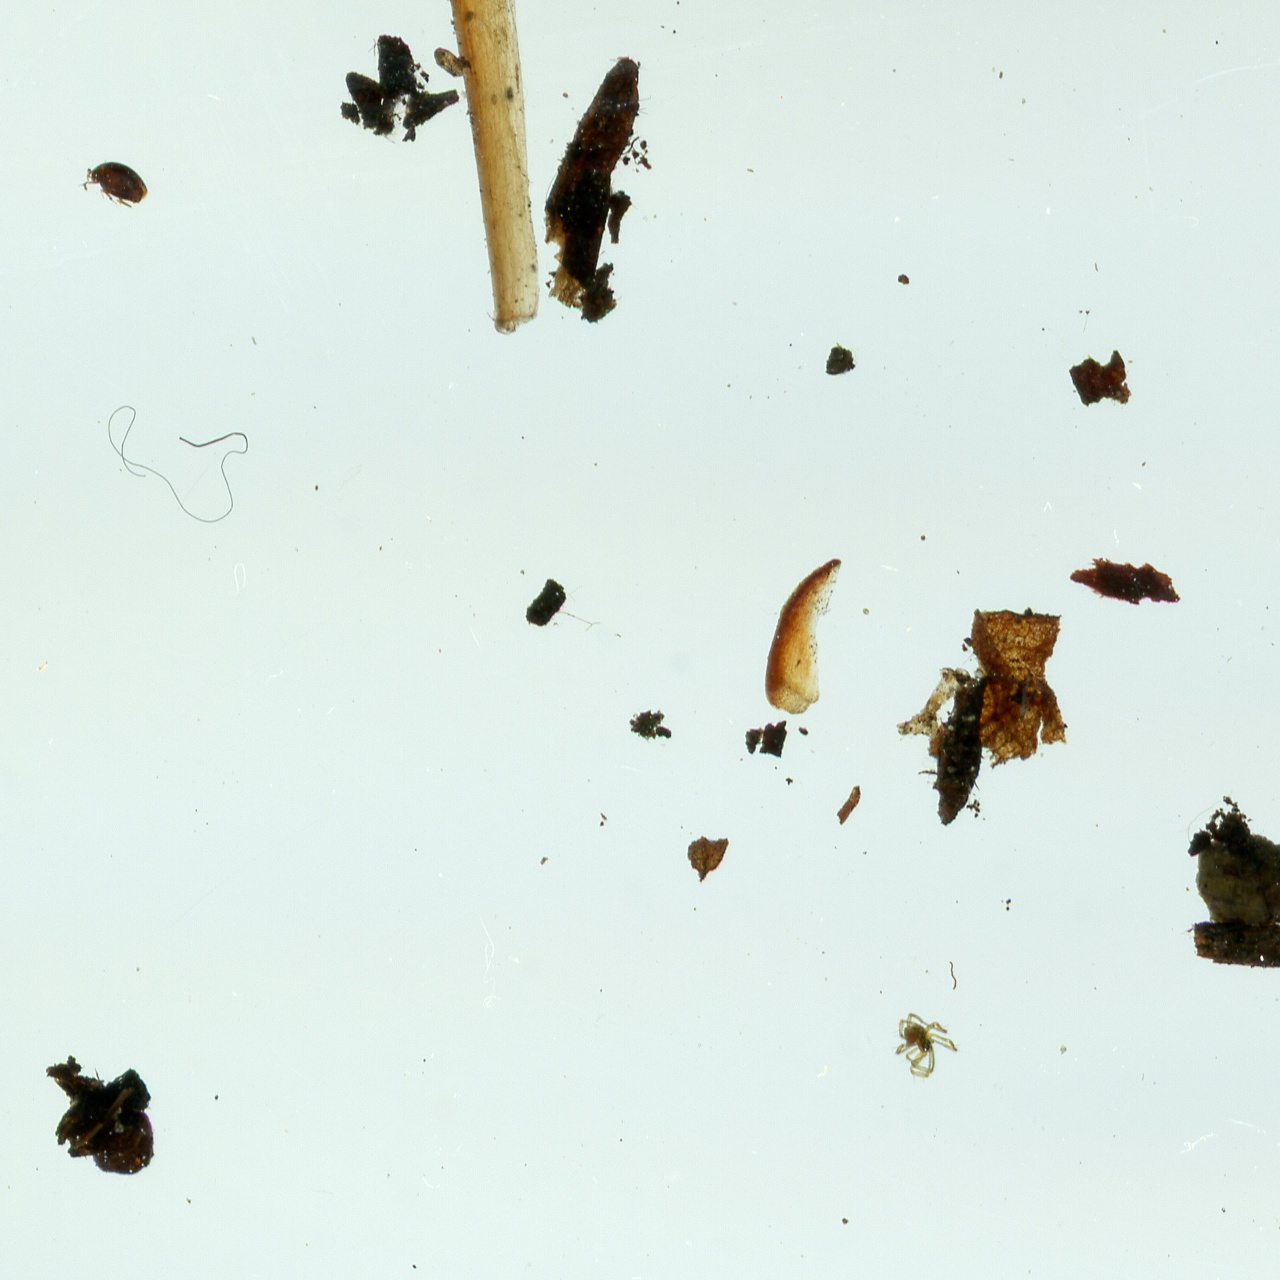arthropod: (890, 1006, 965, 1085), (79, 161, 152, 211)
